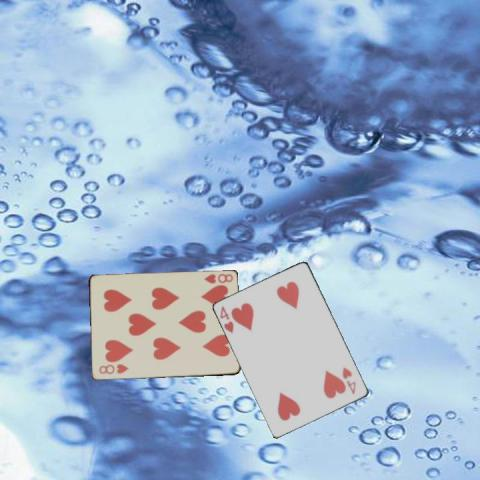4h: (340, 364, 358, 396), (218, 303, 236, 335)
8h: (96, 362, 130, 376), (201, 270, 234, 284)
